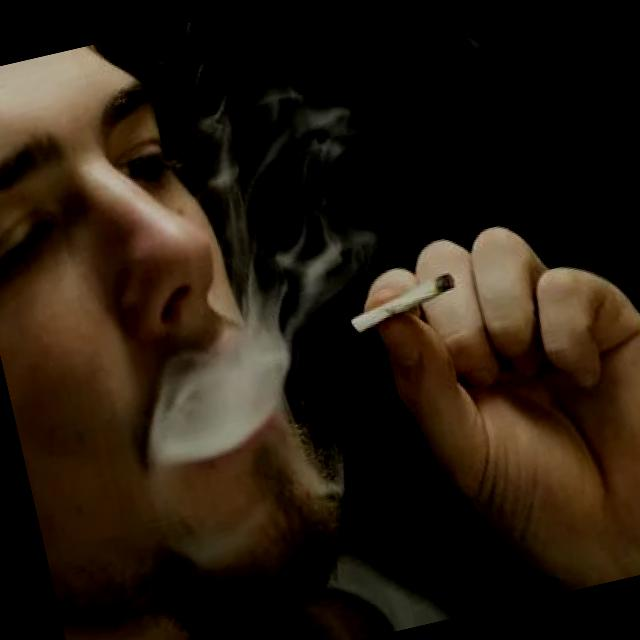smoke: (340, 264, 462, 339)
